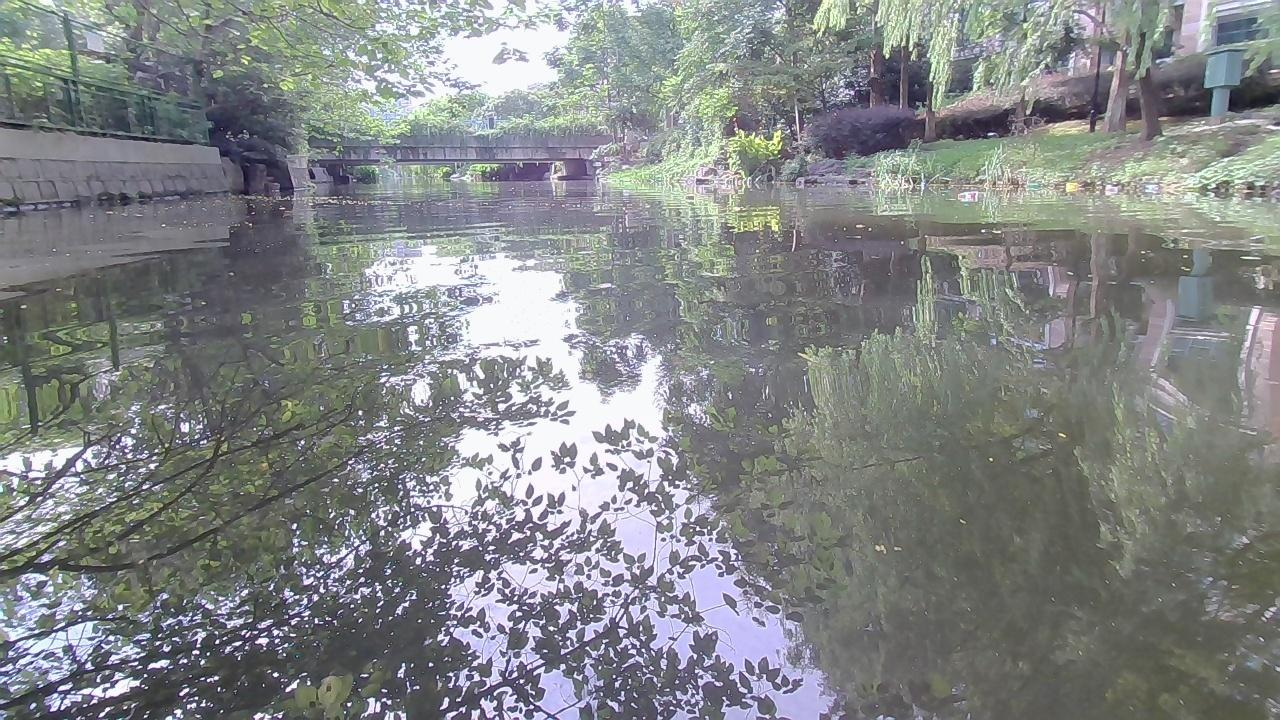bottle: (1063, 180, 1086, 192), (954, 191, 980, 200)
